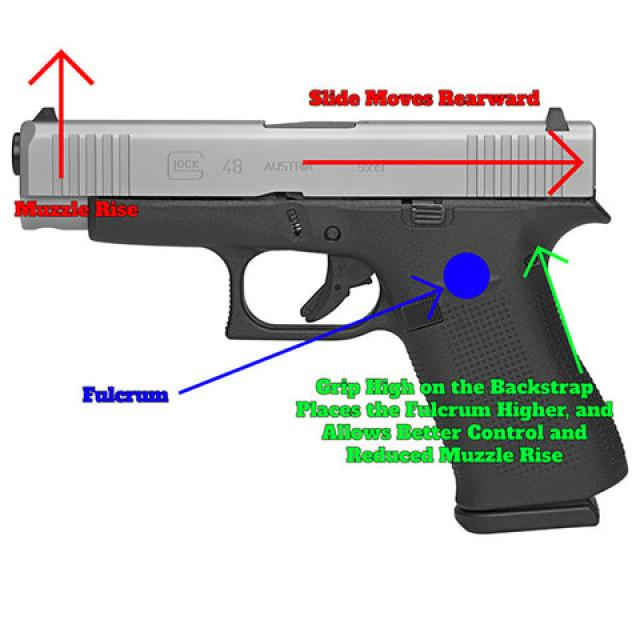HandGun: (11, 105, 631, 537)
